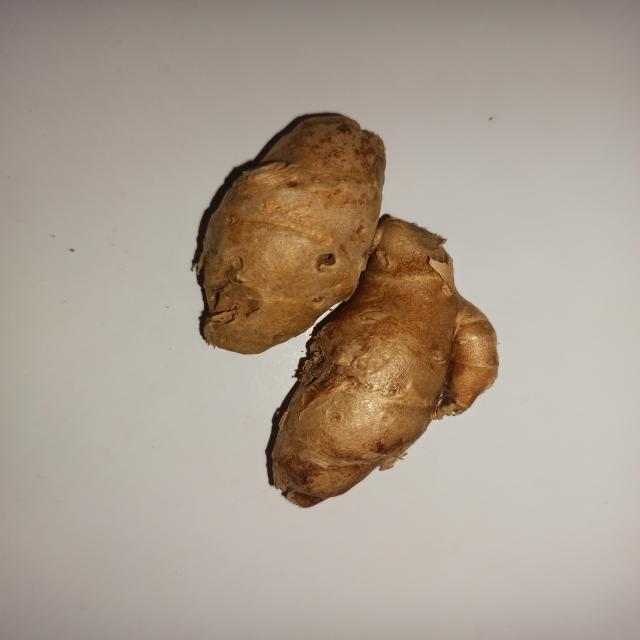ginger: (206, 106, 489, 494)
